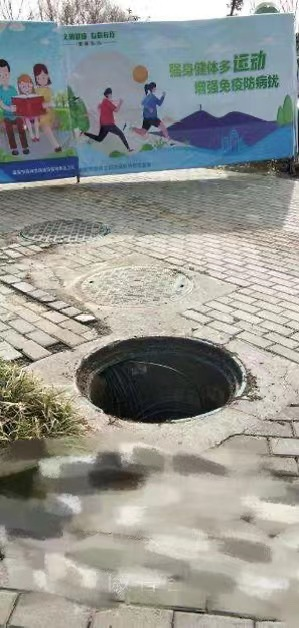well: (72, 333, 249, 428)
